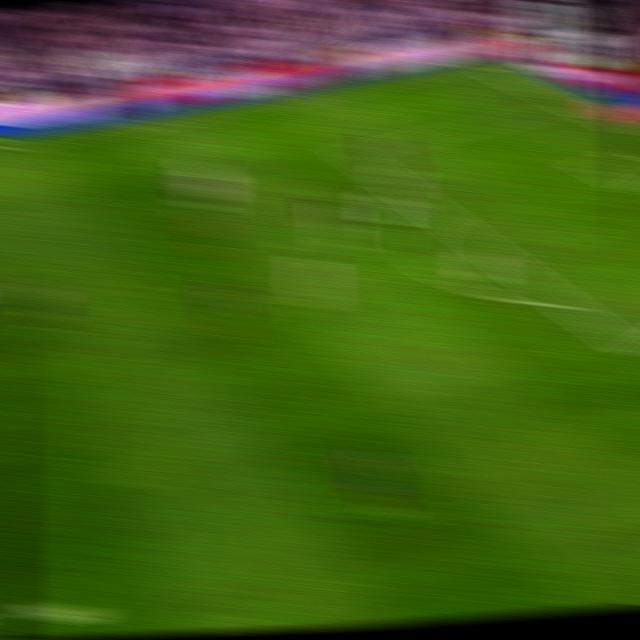bigarea_top_inner: (338, 143, 367, 162)
bigarea_top_outter: (554, 97, 583, 112)
bottom_arc_area_intersection: (550, 291, 582, 316)
corner: (460, 56, 490, 70)
smallarea_top_inner: (575, 158, 603, 175)
top_arc_area_intersection: (420, 201, 451, 222)
